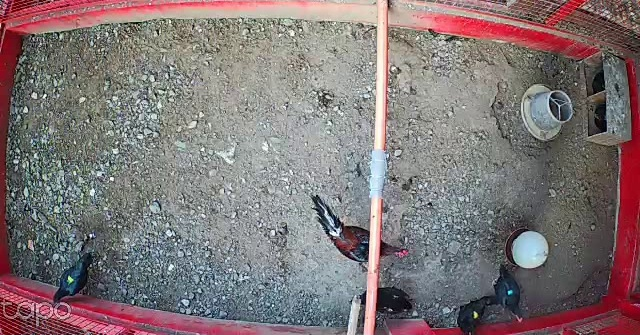Chicken: (51, 249, 99, 307), (351, 283, 420, 319), (487, 262, 526, 325), (455, 295, 496, 335)
Rooster: (307, 192, 407, 265)
Saddle_Color_Blue: (507, 288, 514, 294)
Saddle_Color_Yellow: (472, 311, 478, 317)
Saddle_Color_YellowGreen: (66, 275, 74, 287)
